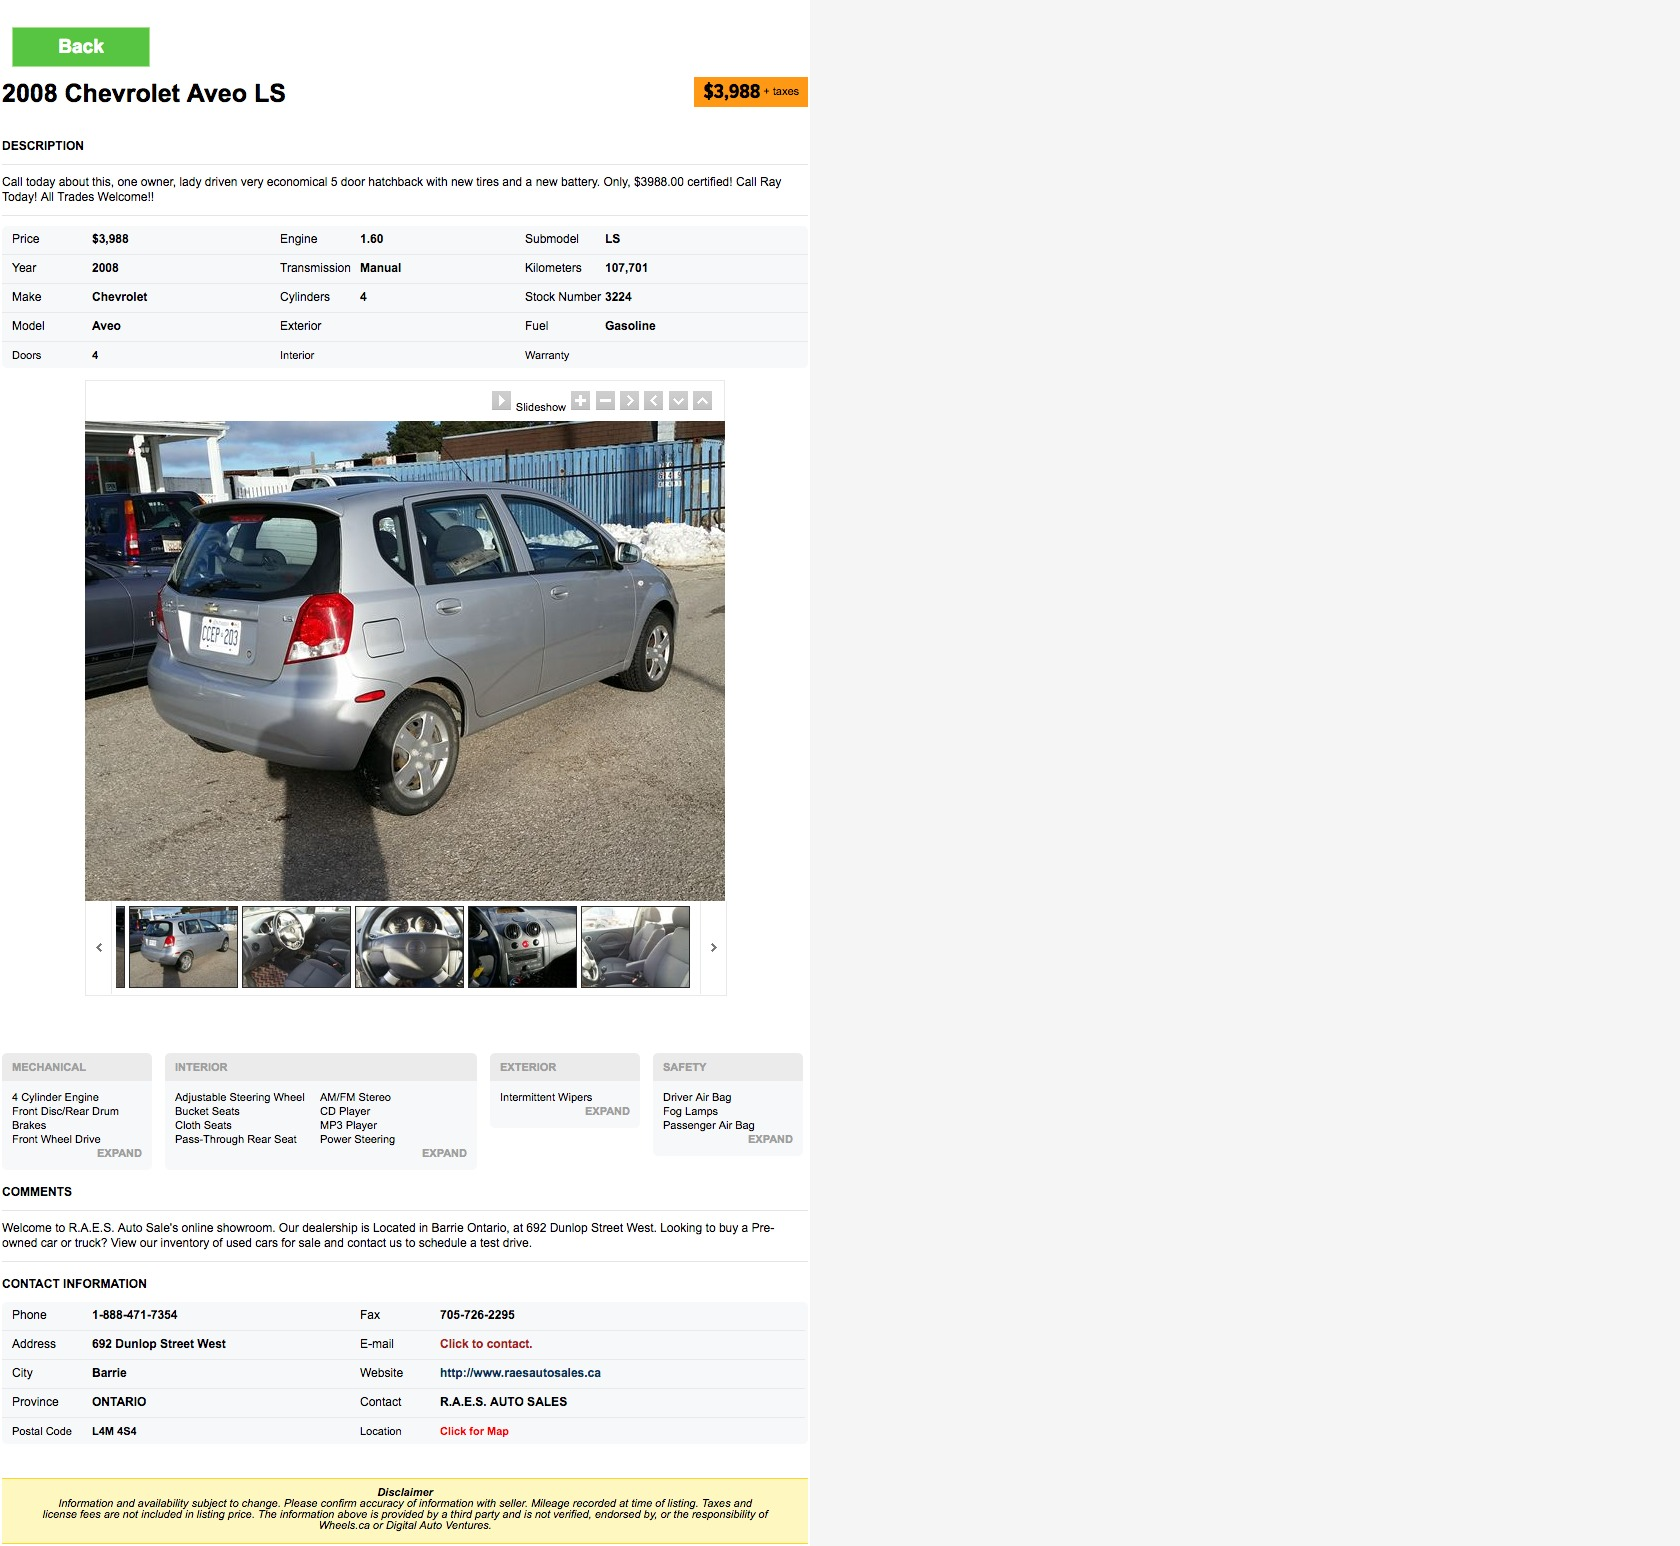car: (711, 943, 719, 953)
